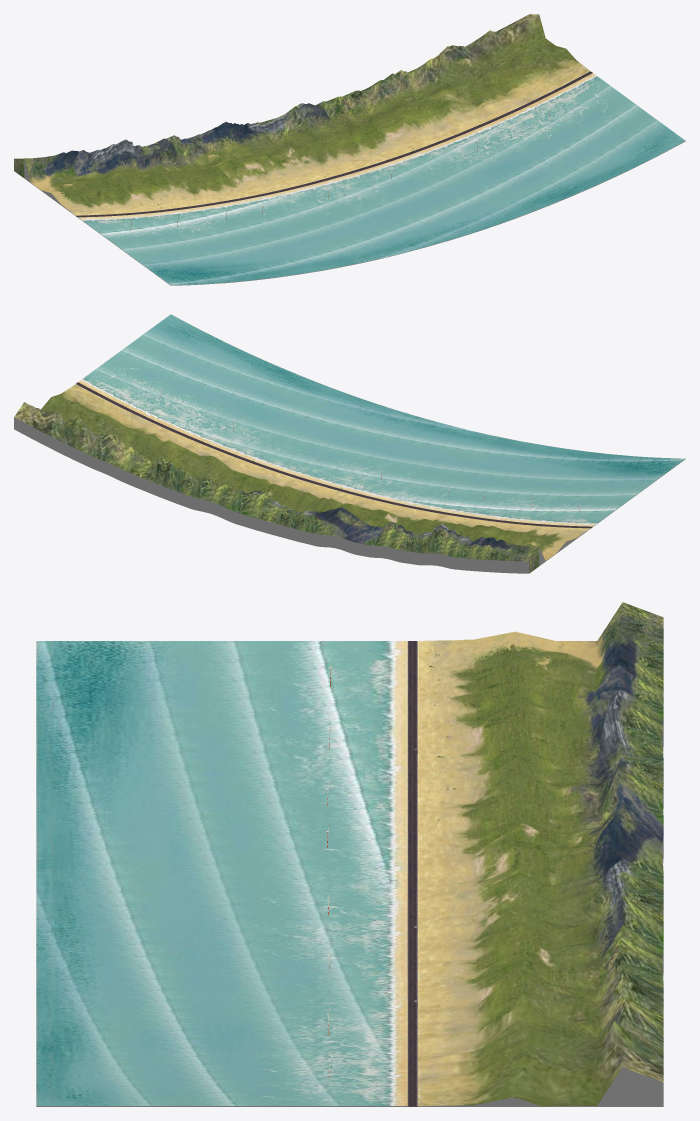
The model's file is colony_land_v8.glb.
3 views of the same model, one above another, from view 1: azimuth 30°, elevation 25°; view 2: azimuth 150°, elevation 25°; view 3: azimuth 270°, elevation 25° (orthographic). The views are drawn at different scales.
Visible parts, largest first — view 1: sea, mountain, colony_road; view 2: sea, mountain, colony_road; view 3: sea, mountain, colony_road.
Boxes of the visible parts, x1,y1,x2,y2 form: sea: (24,73,685,285); mountain: (14,14,590,215); colony_road: (76,71,592,217); sea: (14,314,685,573); mountain: (14,384,590,573); colony_road: (76,382,592,528); sea: (36,641,663,1106); mountain: (417,602,663,1106); colony_road: (407,641,417,1106).
Bounding box in the file's own units: 1451 × 173 × 765.
11 materials, 8 textured.
